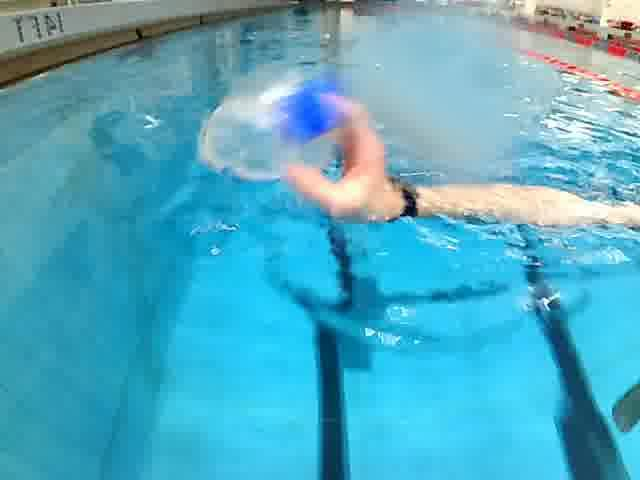Bottle: (201, 80, 343, 184)
